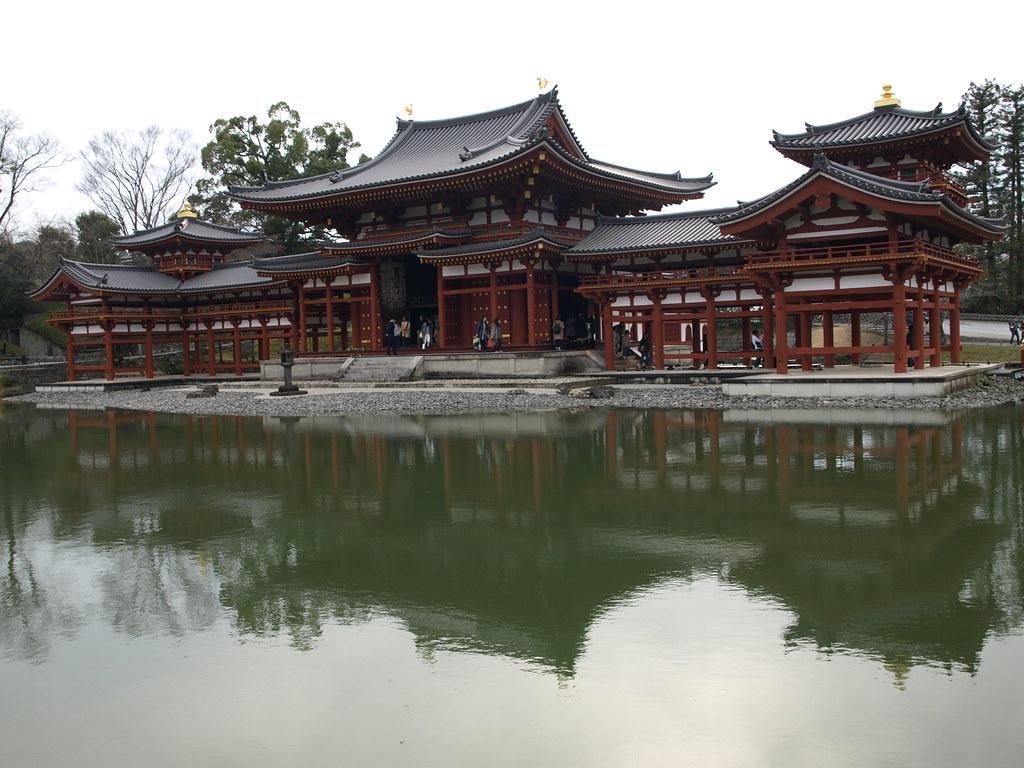temple: (26, 76, 1010, 387)
